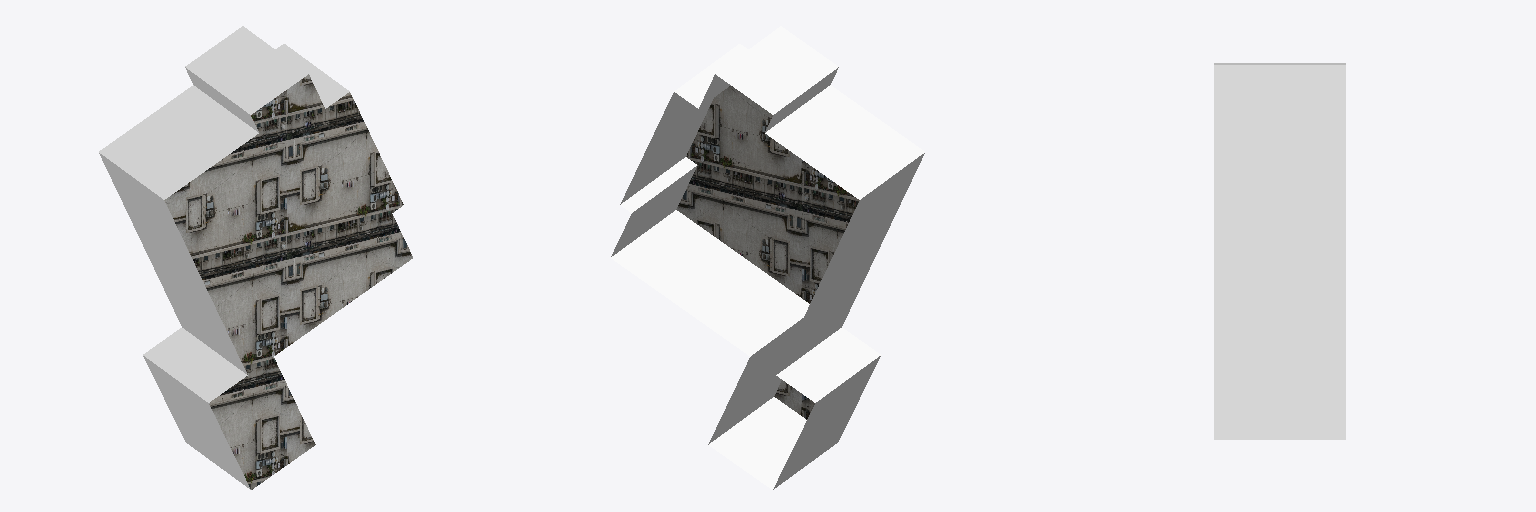
3 views of the same model, side by side, from view 1: azimuth 30°, elevation 25°; view 2: azimuth 150°, elevation 25°; view 3: azimuth 270°, elevation 25° (orthographic).
Visible parts, largest first — view 1: Building; view 2: Building; view 3: Building.
Boxes of the visible parts, <box> form: Building: <box>99,26,412,489</box>; Building: <box>611,26,924,489</box>; Building: <box>1214,63,1345,439</box>.
Size of the model in its own units: 19.64 by 30.28 by 9.
Materials: 2 (1 with a texture image).